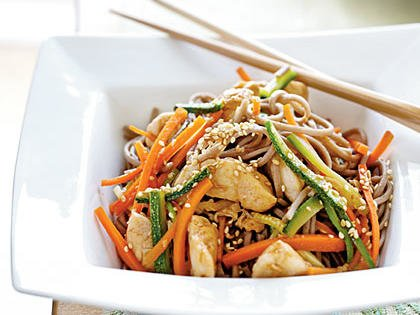Soba: (119, 82, 401, 275)
